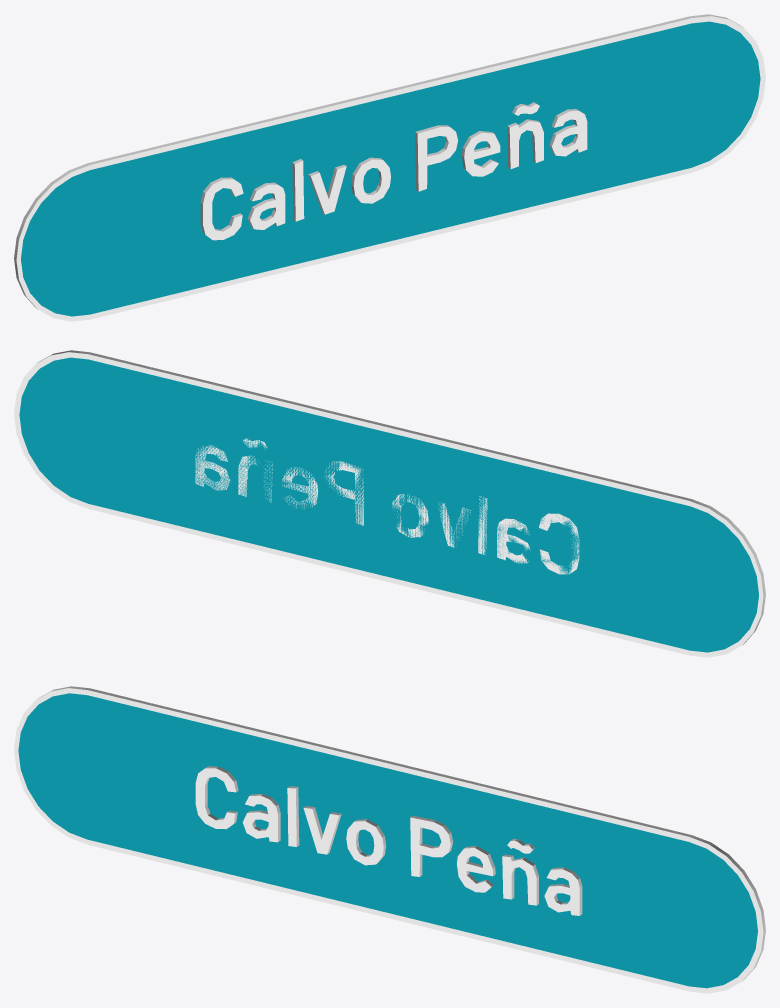
Rendered from calvopenaOBJ.obj.
The picture shows the model from 3 angles, top to bottom: view 1: azimuth 30°, elevation 25°; view 2: azimuth 150°, elevation 25°; view 3: azimuth 330°, elevation 25°; orthographic projection.
Parts seen in each view (by area): view 1: Entorno_35_Entorno_1__22442_, Entorno_36_Entorno_1__22454_, Texto_de_modelo_Texto_de_modelo_10__22430_; view 2: Entorno_35_Entorno_1__22442_, Entorno_36_Entorno_1__22454_, Texto_de_modelo_Texto_de_modelo_10__22430_; view 3: Entorno_35_Entorno_1__22442_, Entorno_36_Entorno_1__22454_, Texto_de_modelo_Texto_de_modelo_10__22430_.
Boxes of the visible parts, x1,y1,x2,y2 form: Entorno_35_Entorno_1__22442_: [21, 21, 760, 316]; Entorno_36_Entorno_1__22454_: [14, 14, 765, 321]; Texto_de_modelo_Texto_de_modelo_10__22430_: [200, 102, 587, 240]; Entorno_35_Entorno_1__22442_: [19, 357, 758, 652]; Entorno_36_Entorno_1__22454_: [14, 350, 765, 657]; Texto_de_modelo_Texto_de_modelo_10__22430_: [195, 438, 579, 574]; Entorno_35_Entorno_1__22442_: [18, 693, 757, 988]; Entorno_36_Entorno_1__22454_: [14, 686, 765, 993]; Texto_de_modelo_Texto_de_modelo_10__22430_: [195, 766, 582, 915].
Bounding box in the file's own units: 20.75 × 4.09 × 0.2362.
